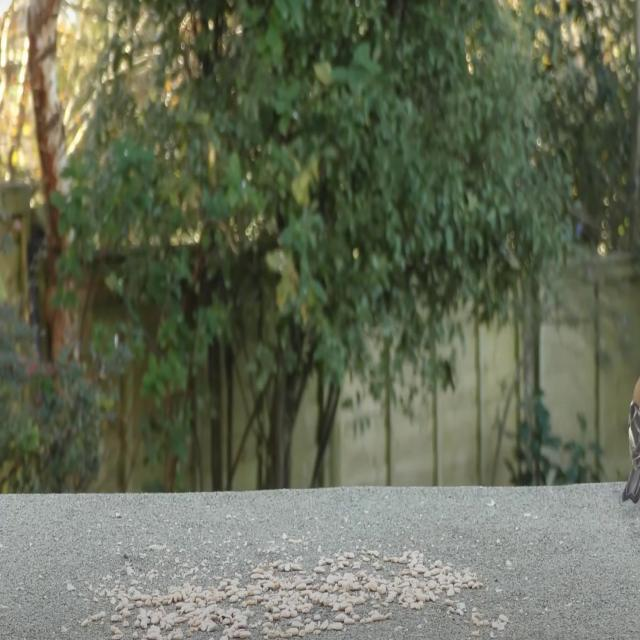bird: (620, 368, 640, 511)
